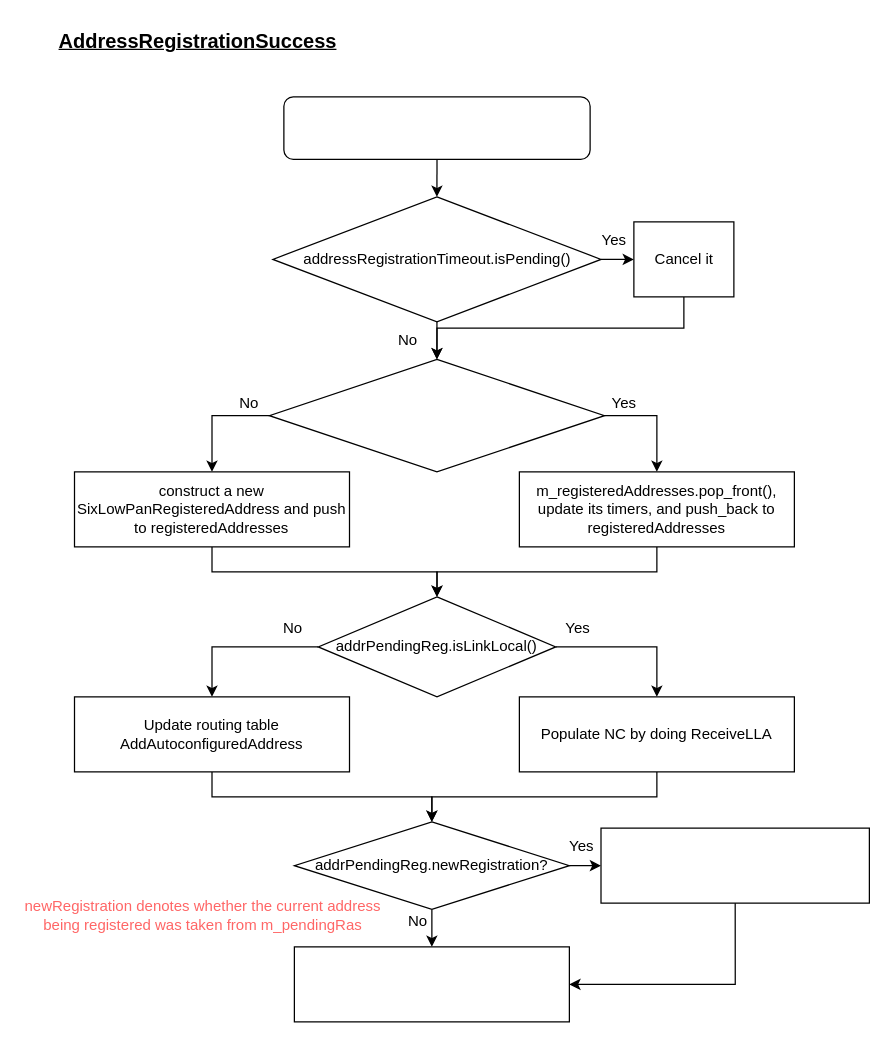
This 891x1044 diagram has some shape labels left out. The shapes that lost their labels are listed below. From the top down, each one's box as (x1, y1, x2, y2) in pixels, then its label:
(283, 96, 590, 159): set AddressRegistrationCounter = 0 set addrPendingReg.isValid = false
(268, 358, 604, 472): addrPendingReg is in registeredAddresses
(600, 827, 869, 903): pop front from pendingRas.front()'s addressesToBeRegistered
(293, 946, 569, 1022): Schedule AddressRegistration
